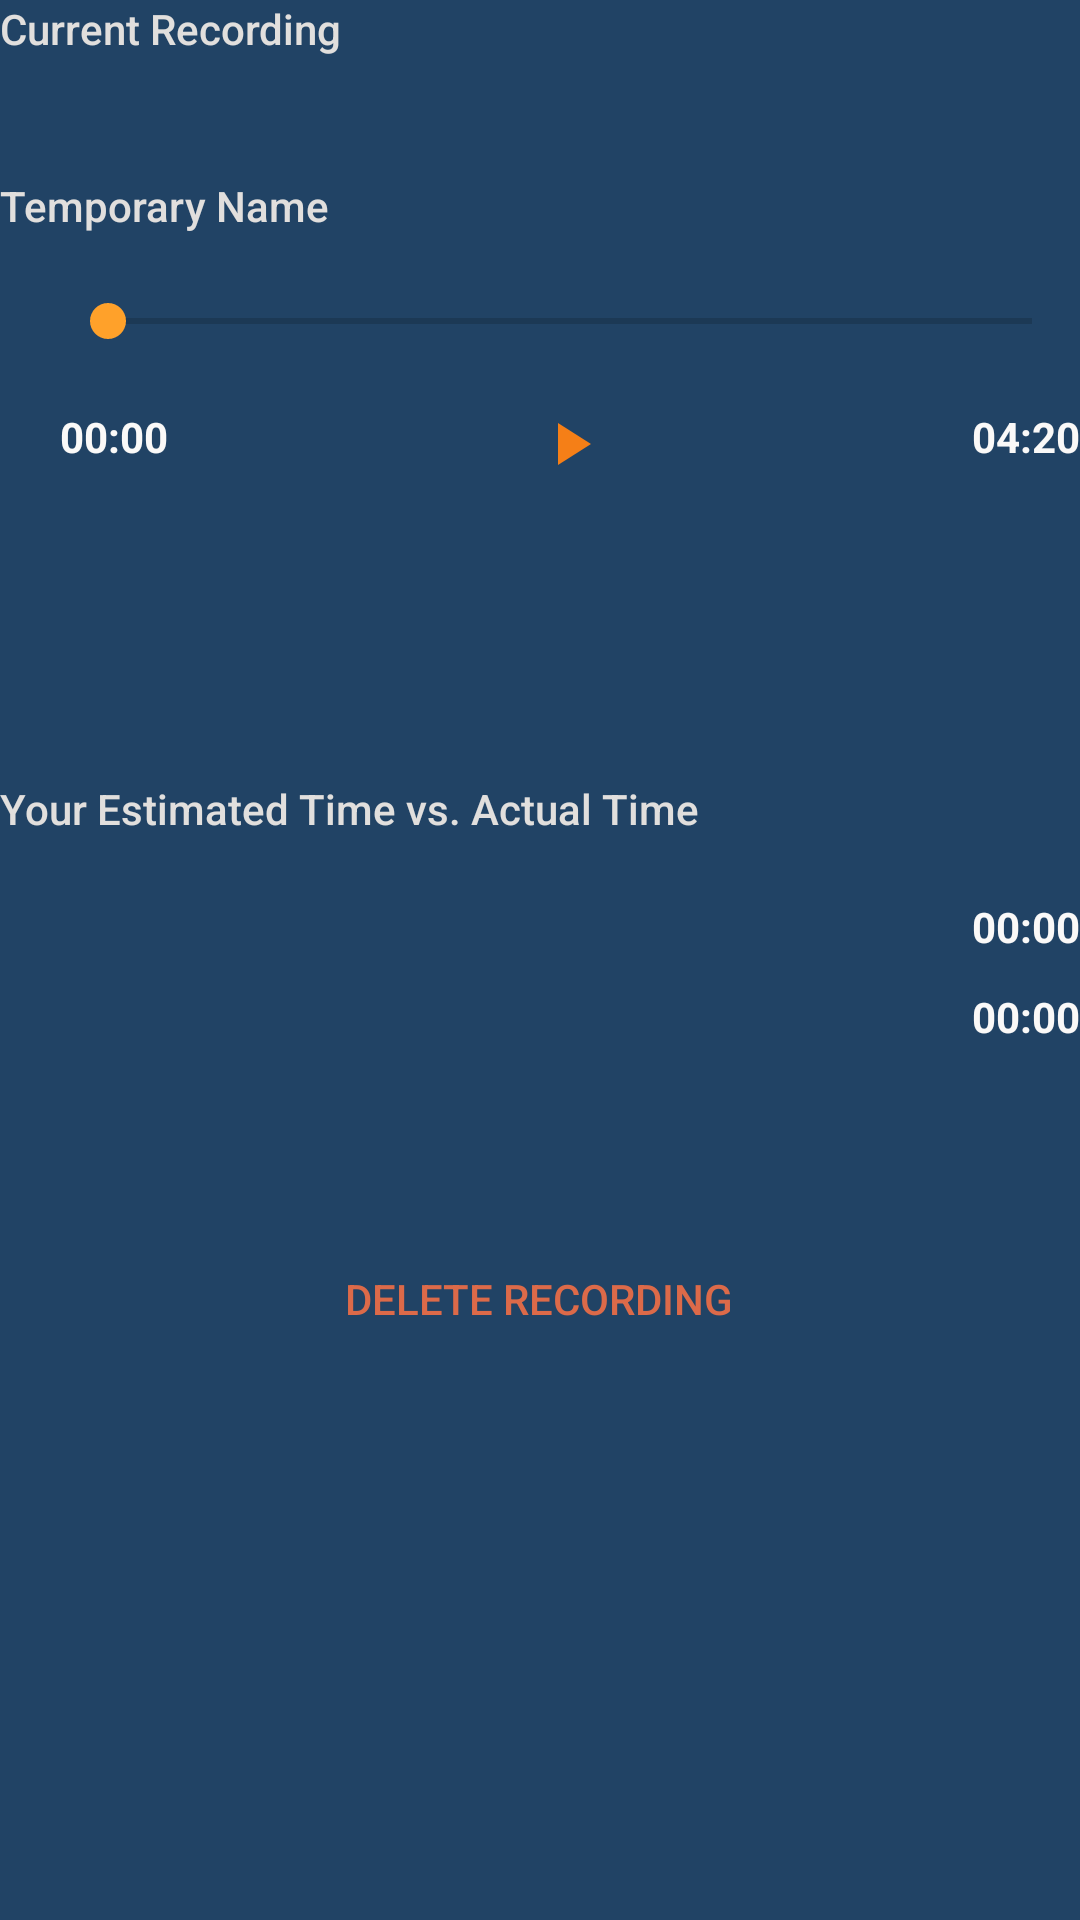

Icons on this 1080w x 1920h Android screen, each with its box as [left=x1, top=y1, right=x2, bottom=y2]:
play: [left=558, top=423, right=591, bottom=465]
